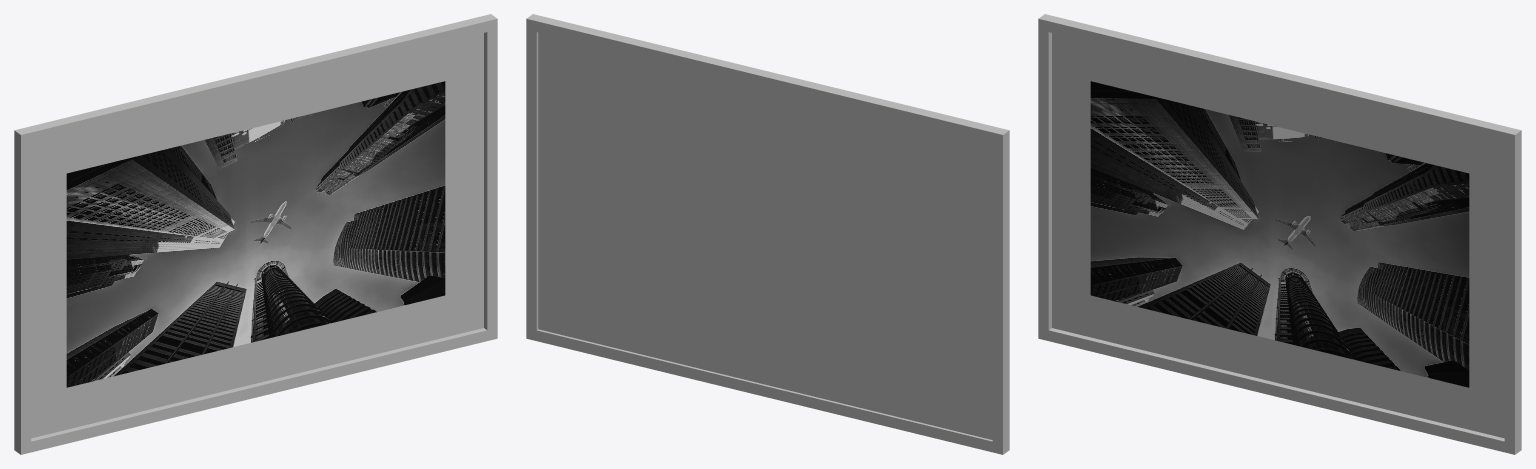
The model's file is Paint_01.FBX.
3 views of the same model, side by side, from view 1: azimuth 30°, elevation 25°; view 2: azimuth 150°, elevation 25°; view 3: azimuth 330°, elevation 25° (orthographic).
Parts seen in each view (by area): view 1: Paint, Border, Paint_01; view 2: Back, Paint_01; view 3: Paint, Border, Paint_01.
Part boxes in pixels (bbox=[...]): Paint: bbox=[66, 81, 445, 387]; Border: bbox=[31, 33, 483, 438]; Paint_01: bbox=[14, 14, 497, 454]; Back: bbox=[538, 32, 992, 439]; Paint_01: bbox=[526, 14, 1009, 454]; Paint: bbox=[1090, 81, 1469, 387]; Border: bbox=[1052, 33, 1504, 438]; Paint_01: bbox=[1038, 14, 1521, 454].
Size of the model in its own units: 2.09 by 1.34 by 0.0493.
